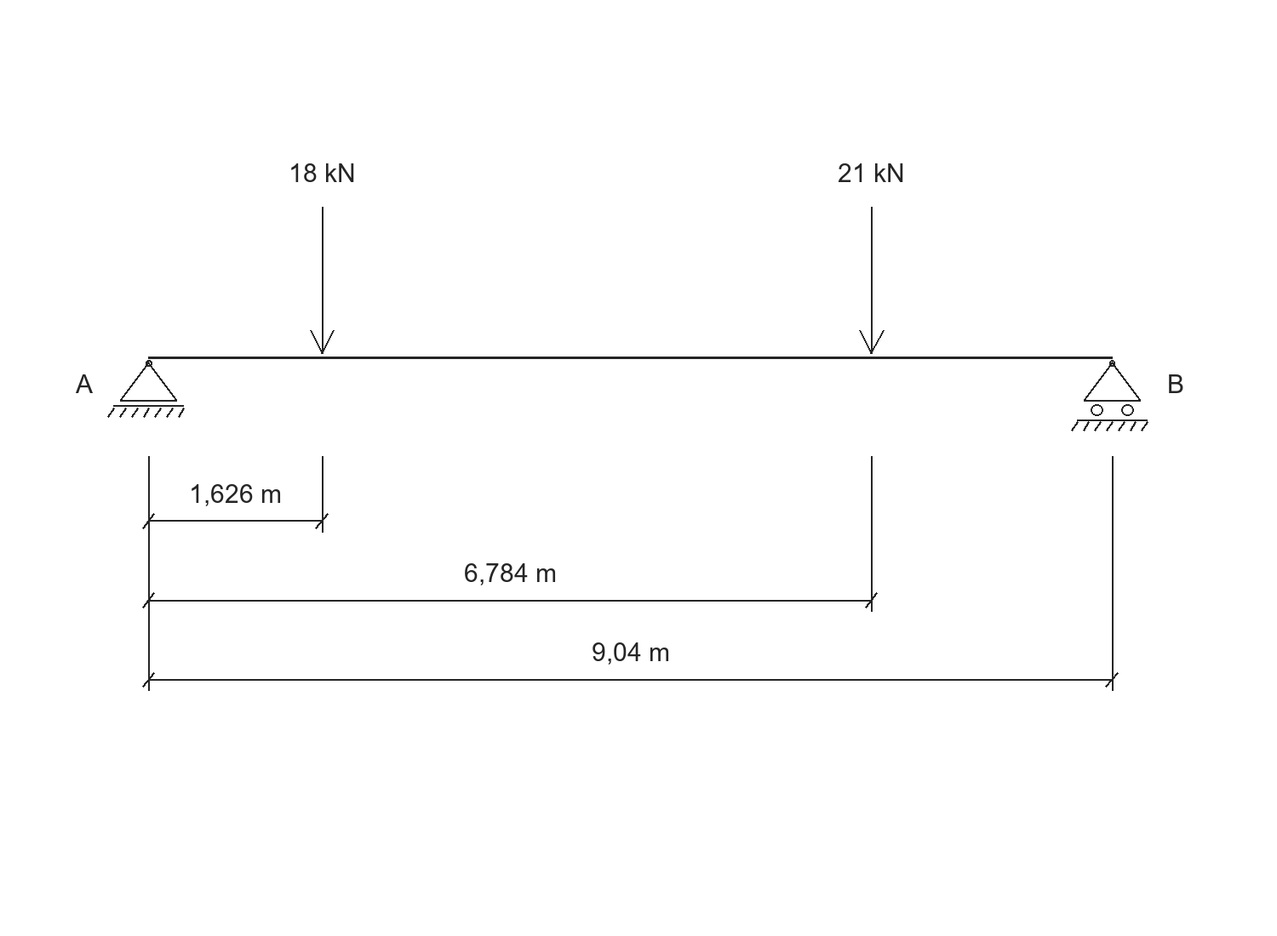pin_support: (107, 360, 185, 418)
point_load: (859, 207, 885, 354), (310, 207, 335, 354)
roller_support: (1071, 360, 1148, 431)
